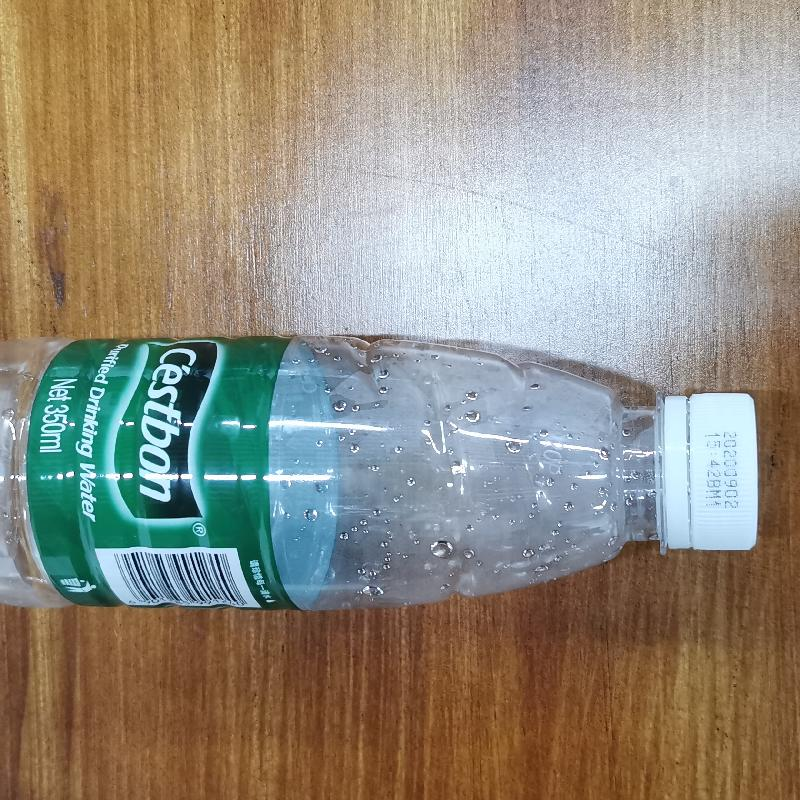bottles: (9, 329, 762, 614)
